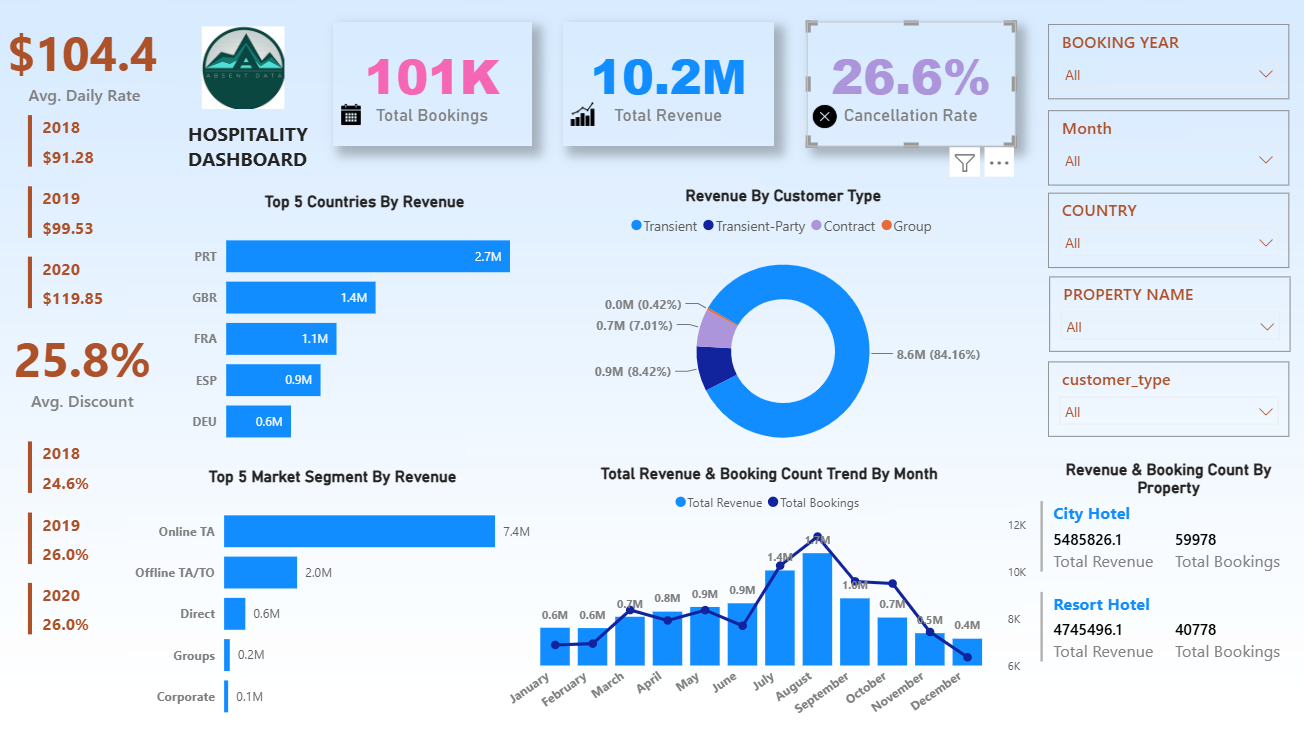

This screenshot's page, from the dashboard's own definition file:
{"tool":"powerbi","page":{"name":"Exec. Dashboard","canvas":[1280,720],"ordinal":0},"visuals":[{"type":"card","fields":{"Values":["Hotels_Booking_Data.Avg. Of ADR"]},"box":[1.2,14.5,162.8,94.1],"z":0},{"type":"multiRowCard","fields":{"Values":["Hotels_Booking_Data.Reservation_Status_Year","Hotels_Booking_Data.Avg. Of ADR"]},"box":[24.1,108.5,117,227.9],"z":1000},{"type":"card","fields":{"Values":["Hotels_Booking_Data.Avg. Of Discount"]},"box":[1.2,314.8,162.8,94.1],"z":2000},{"type":"multiRowCard","fields":{"Values":["Hotels_Booking_Data.Reservation_Status_Year","Hotels_Booking_Data.Avg. Of Discount"]},"box":[24.5,428,116.2,223.8],"z":3000},{"type":"card","fields":{"Values":["Hotels_Booking_Data.Total Bookings"]},"box":[327.2,22.4,194.1,121.9],"z":4000},{"type":"image","box":[180.4,22.4,118.2,90.8],"z":5000},{"type":"textbox","box":[180.4,113.2,146.8,62.2],"z":6000},{"type":"image","box":[327.2,98.3,34.8,31.1],"z":7000},{"type":"card","fields":{"Values":["Hotels_Booking_Data.Total Revenue"]},"box":[552.4,22.4,206.5,121.9],"z":9000},{"type":"image","box":[552.4,95.8,38.6,33.6],"z":10000},{"type":"card","fields":{"Values":["Hotels_Booking_Data.Cancellation Rate"]},"box":[791.3,22.4,204,121.9],"z":11000},{"type":"image","box":[791.3,95.8,35,39],"z":12000},{"type":"barChart","title":"Top 5 Market Segment By Revenue","fields":{"Y":["Hotels_Booking_Data.Total Revenue"],"Category":["Hotels_Booking_Data.market_segment"]},"box":[127.8,458.3,398,261.7],"z":13000},{"type":"barChart","title":"Top 5 Countries By Revenue","fields":{"Y":["Hotels_Booking_Data.Total Revenue"],"Category":["Hotels_Booking_Data.country"]},"box":[183.3,189.5,350.3,261.8],"z":14000},{"type":"lineStackedColumnComboChart","title":"Total Revenue & Booking Count Trend By Month","fields":{"Y":["Hotels_Booking_Data.Total Revenue"],"Category":["Hotels_Booking_Data.reservation_status_date.Variation.Date Hierarchy.Month"],"Y2":["Hotels_Booking_Data.Total Bookings"]},"box":[494.5,454.7,521,265.3],"z":15000},{"type":"donutChart","title":"Revenue By Customer Type","fields":{"Y":["Hotels_Booking_Data.Total Revenue"],"Category":["Hotels_Booking_Data.customer_type"]},"box":[521,183.3,494.5,275],"z":16000},{"type":"multiRowCard","title":"Revenue & Booking Count By Property","fields":{"Values":["Hotels_Booking_Data.hotel","Hotels_Booking_Data.Total Revenue","Hotels_Booking_Data.Total Bookings"]},"box":[1015.5,451.1,260.5,243.6],"z":17000},{"type":"slicer","fields":{"Values":["Hotels_Booking_Data.Reservation_Status_Year"]},"box":[1027.7,25,236.3,73.8],"z":19000},{"type":"slicer","fields":{"Values":["Hotels_Booking_Data.country"]},"box":[1027.7,190,236.3,73.8],"z":20000},{"type":"slicer","fields":{"Values":["Hotels_Booking_Data.hotel"]},"box":[1029,271.3,236.3,73.8],"z":21000},{"type":"slicer","fields":{"Values":["Hotels_Booking_Data.reservation_status_date.Variation.Date Hierarchy.Month"]},"box":[1027.7,108.8,236.3,73.8],"z":22000},{"type":"slicer","fields":{"Values":["Hotels_Booking_Data.customer_type"]},"box":[1027.7,355.1,236.3,73.8],"z":23000}]}

Visuals, with their boxes in screenshot pixels (x1, y1, x2, y2), scaled from the page's 1280x720 canvas onto the 1304x734 screenshot:
card - Hotels_Booking_Data.Avg. Of ADR: x1=1 y1=15 x2=167 y2=111
multiRowCard - Hotels_Booking_Data.Reservation_Status_Year x Hotels_Booking_Data.Avg. Of ADR: x1=25 y1=111 x2=144 y2=343
card - Hotels_Booking_Data.Avg. Of Discount: x1=1 y1=321 x2=167 y2=417
multiRowCard - Hotels_Booking_Data.Reservation_Status_Year x Hotels_Booking_Data.Avg. Of Discount: x1=25 y1=436 x2=143 y2=664
card - Hotels_Booking_Data.Total Bookings: x1=333 y1=23 x2=531 y2=147
image: x1=184 y1=23 x2=304 y2=115
textbox: x1=184 y1=115 x2=333 y2=179
image: x1=333 y1=100 x2=369 y2=132
card - Hotels_Booking_Data.Total Revenue: x1=563 y1=23 x2=773 y2=147
image: x1=563 y1=98 x2=602 y2=132
card - Hotels_Booking_Data.Cancellation Rate: x1=806 y1=23 x2=1014 y2=147
image: x1=806 y1=98 x2=842 y2=137
"Top 5 Market Segment By Revenue" barChart: x1=130 y1=467 x2=536 y2=733
"Top 5 Countries By Revenue" barChart: x1=187 y1=193 x2=544 y2=460
"Total Revenue & Booking Count Trend By Month" lineStackedColumnComboChart: x1=504 y1=464 x2=1035 y2=733
"Revenue By Customer Type" donutChart: x1=531 y1=187 x2=1035 y2=467
"Revenue & Booking Count By Property" multiRowCard: x1=1035 y1=460 x2=1300 y2=708
slicer - Hotels_Booking_Data.Reservation_Status_Year: x1=1047 y1=25 x2=1288 y2=101
slicer - Hotels_Booking_Data.country: x1=1047 y1=194 x2=1288 y2=269
slicer - Hotels_Booking_Data.hotel: x1=1048 y1=277 x2=1289 y2=352
slicer - Hotels_Booking_Data.reservation_status_date.Variation.Date Hierarchy.Month: x1=1047 y1=111 x2=1288 y2=186
slicer - Hotels_Booking_Data.customer_type: x1=1047 y1=362 x2=1288 y2=437
